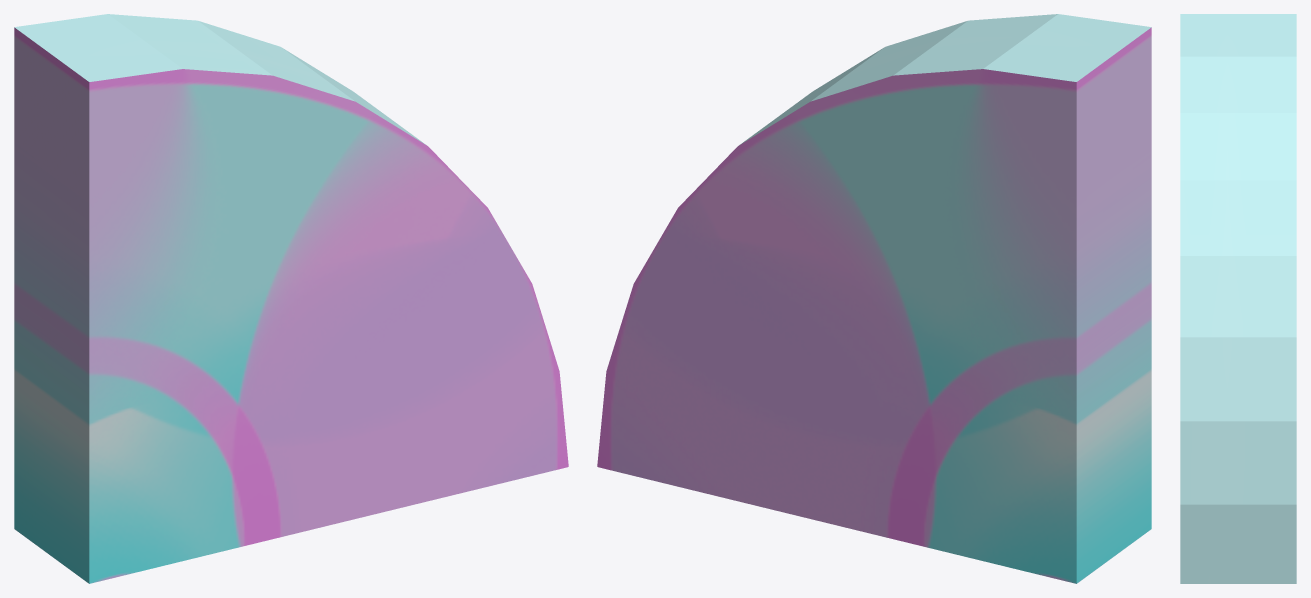
The model's file is право верх.fbx.
The picture shows the model from 3 angles, left to right: view 1: azimuth 30°, elevation 25°; view 2: azimuth 150°, elevation 25°; view 3: azimuth 270°, elevation 25°; orthographic projection. The views are drawn at different scales.
Visible parts, largest first — view 1: Cylinder.002; view 2: Cylinder.002; view 3: Cylinder.002.
Part boxes in pixels (left/top/right/bottom): Cylinder.002: left=14, top=14, right=568, bottom=583; Cylinder.002: left=597, top=14, right=1151, bottom=583; Cylinder.002: left=1180, top=14, right=1296, bottom=583.
Size of the model in its own units: 100 by 100 by 27.14.
